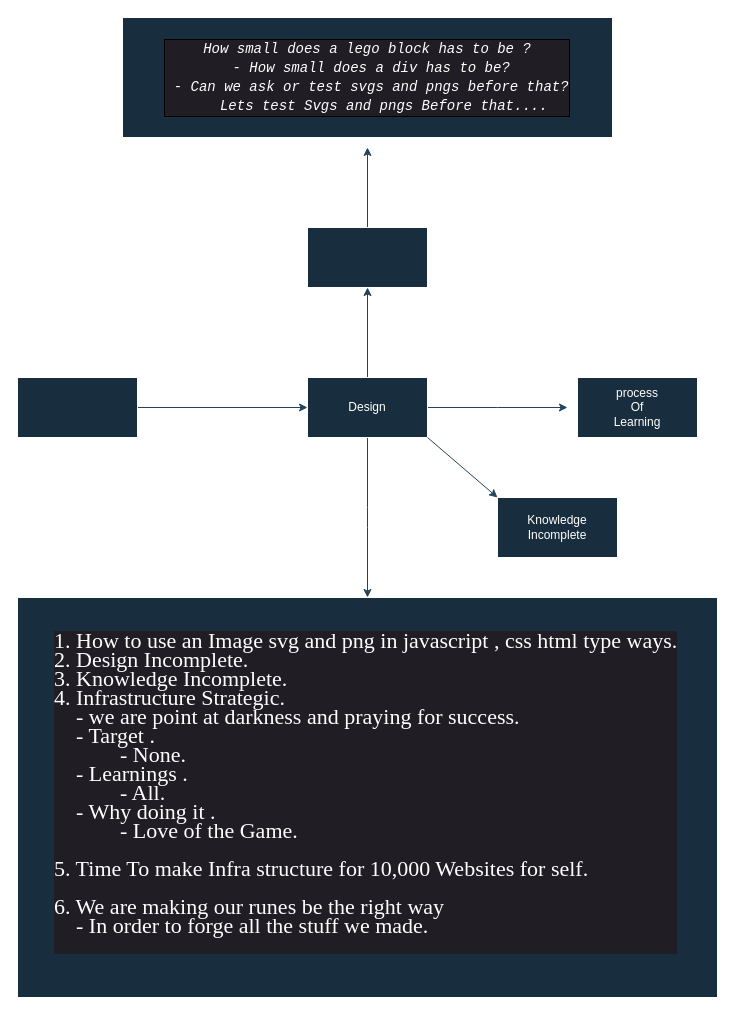
Image size: 735x1015. Some labels were removed from this diagram. Each missing label, with the centre of its shape:
"Hard" goes at [77,407].
"Questions" goes at [367,257].
